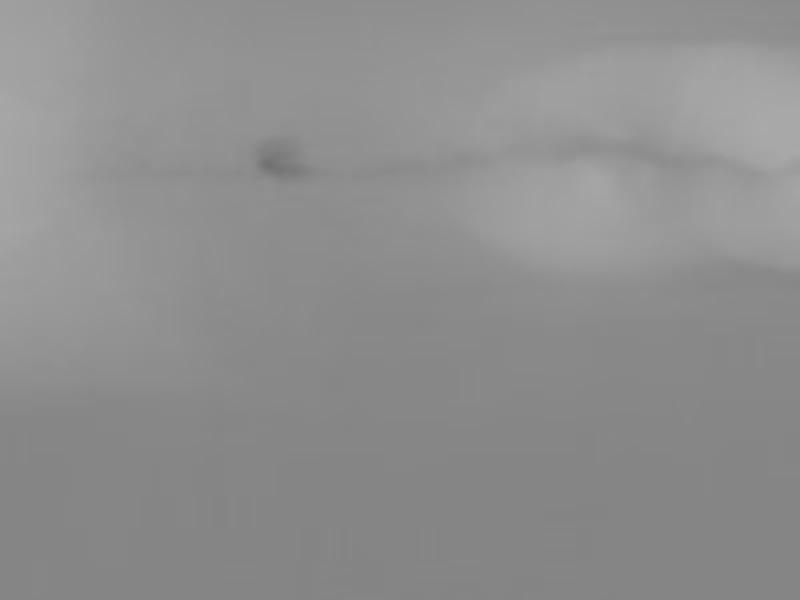defect: (253, 137, 299, 176)
